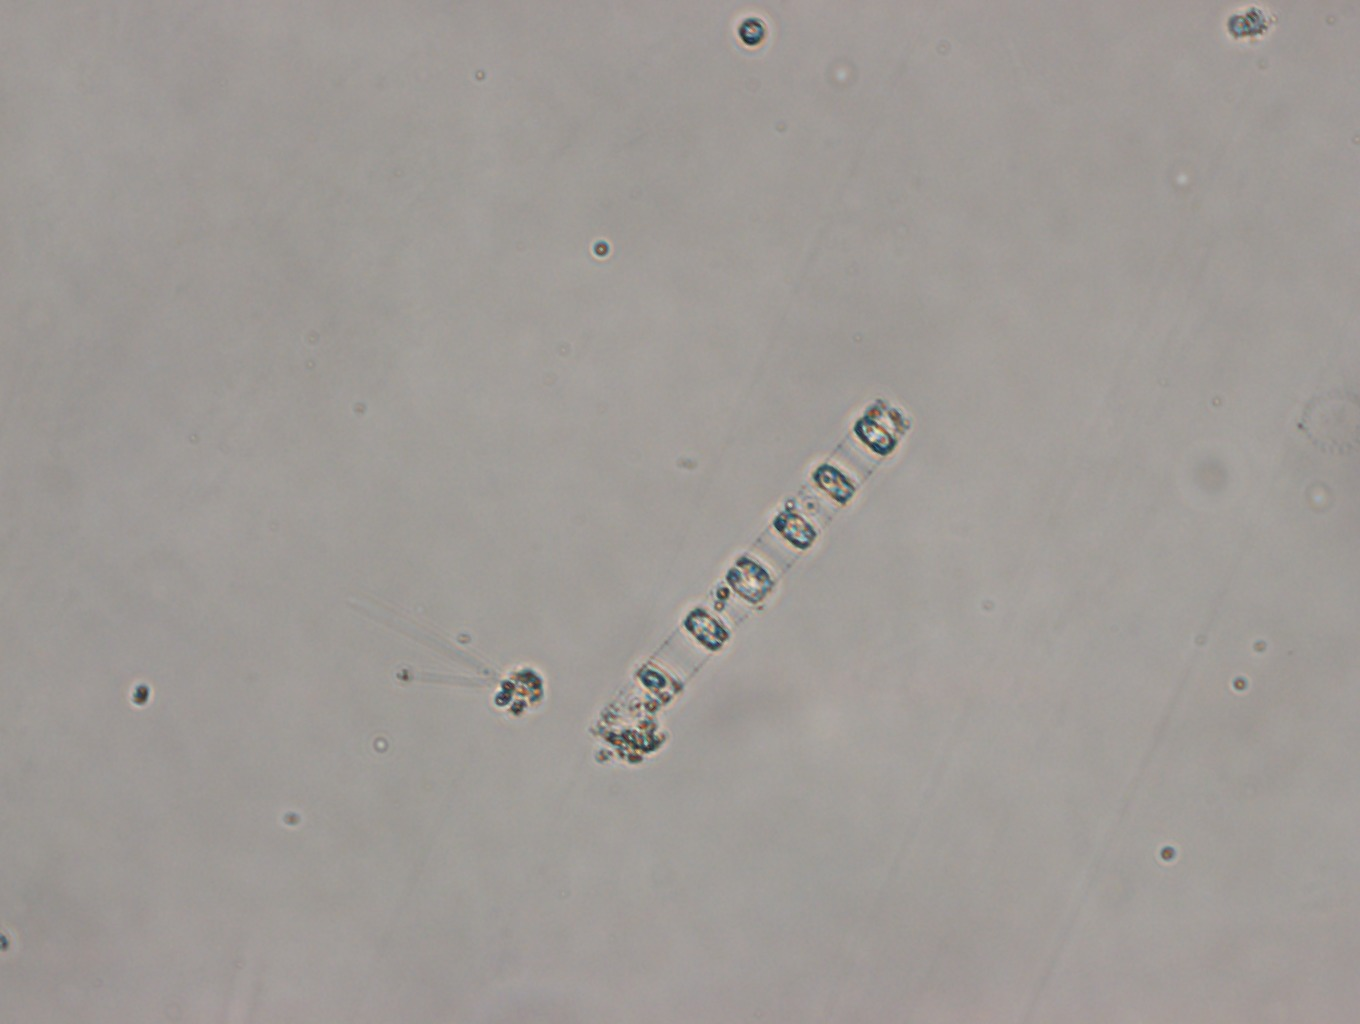skeletonema: (589, 395, 910, 763)
